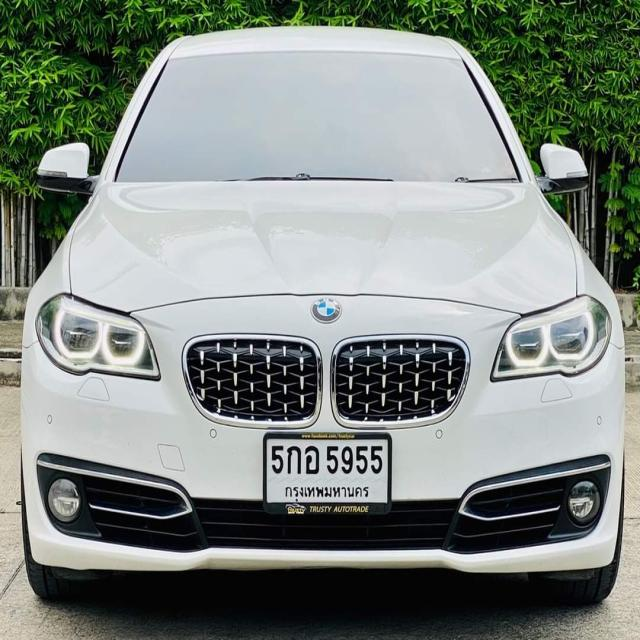license_plate: (262, 429, 394, 519)
